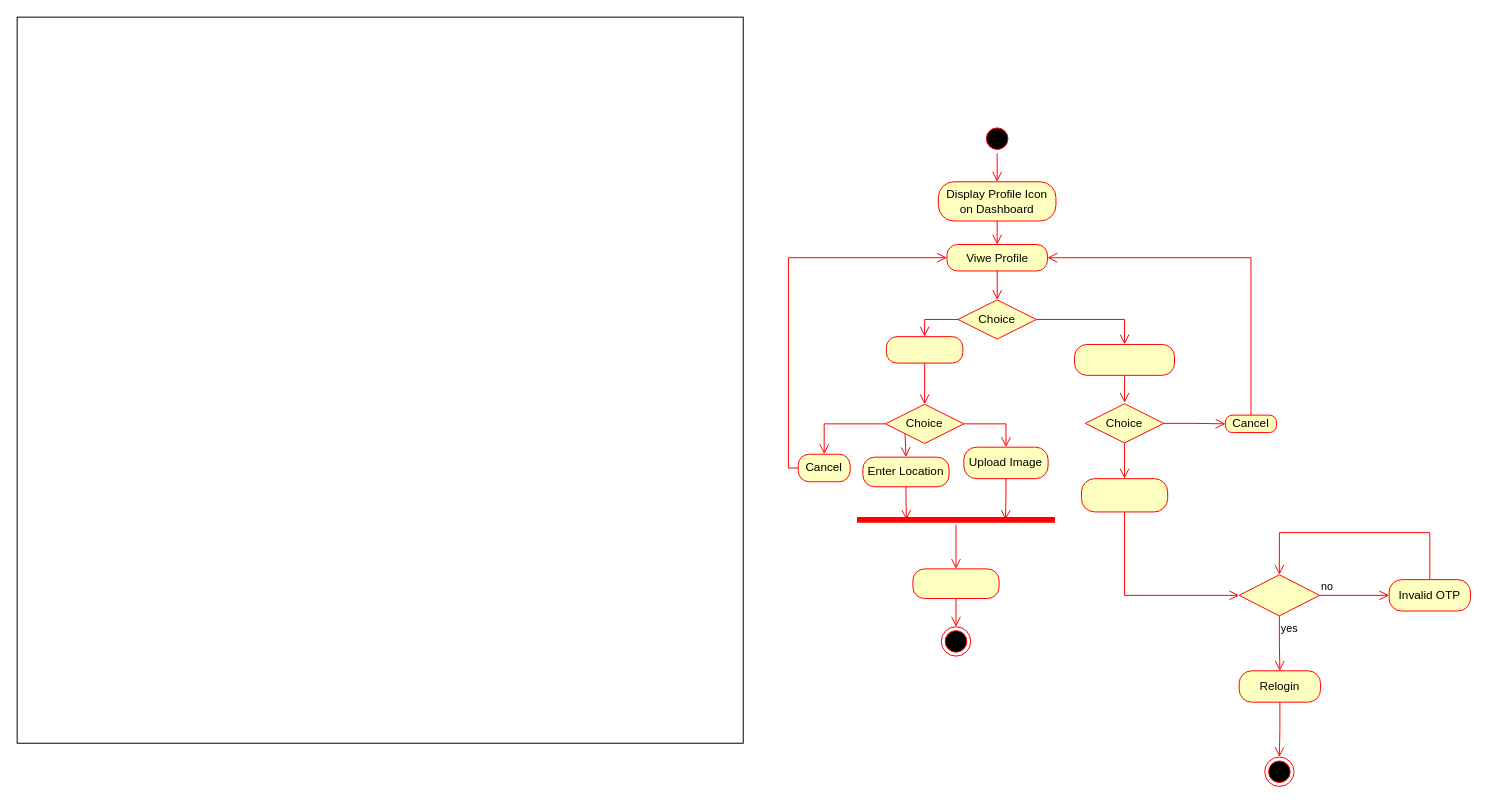
Image size: 1488x804. Some labels were removed from this diagram. Each missing label, with the centre of its shape:
Change Password: the point at 1124,359
Edits Profile: the point at 924,349
Enter Password: the point at 1124,495
OTP Valid?: the point at 1279,595
Save Changes: the point at 955,583
